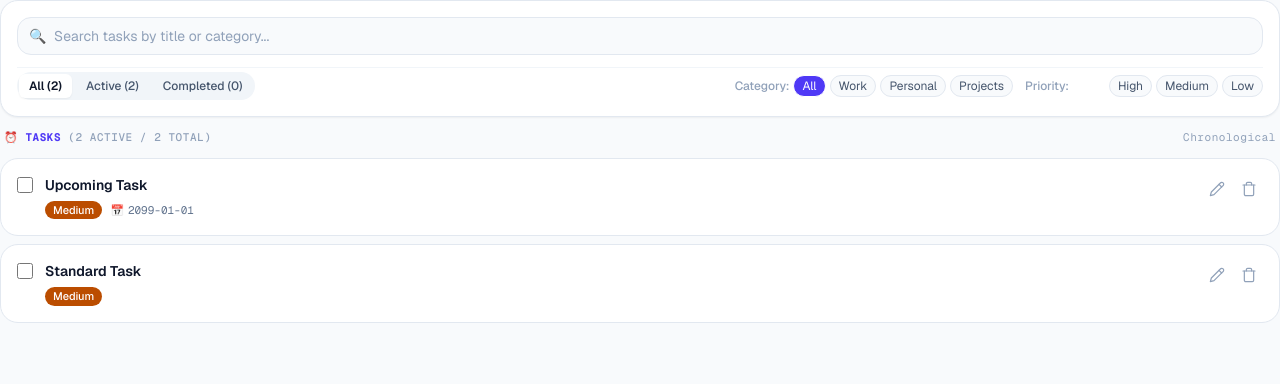
Test: TaskListComponent › should dynamically re-sort tasks when a task due date is edited in place
Expected: the text with class "task-title" reads "Upcoming Task", [45,176,148,194]
Expected: the text with class "task-title" reads "Standard Task", [45,262,142,280]
Click the button with class "edit-btn" in the row of "Standard Task" at (1217, 275), box [1203,261,1231,289]
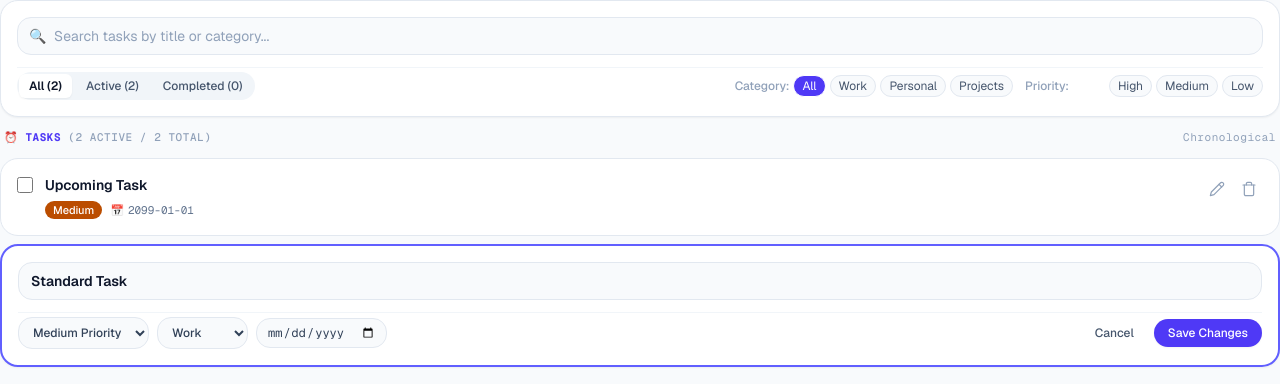
Type "2020-01-01" into the date field with class "edit-due-date-input" at (322, 333), box [256,318,387,348]
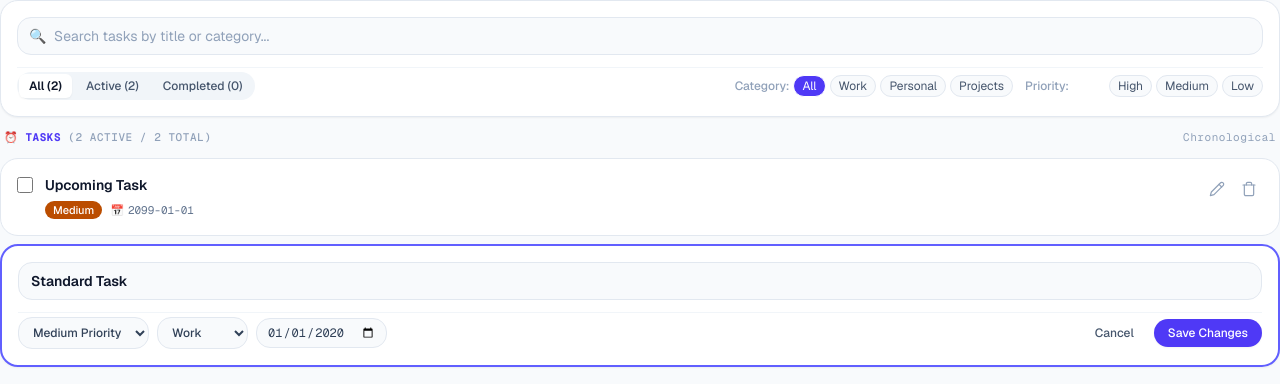
Click the button with class "save-edit-btn" at (1208, 333), box [1154,319,1262,347]
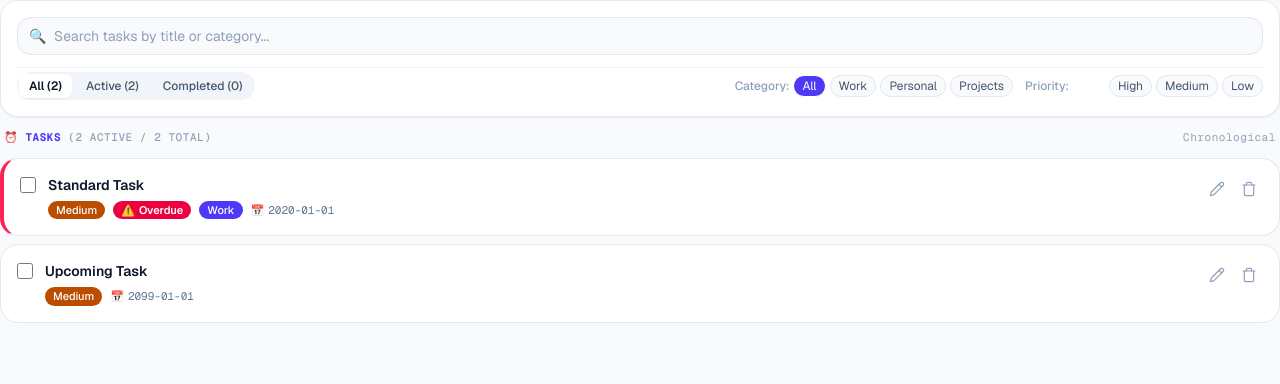
Expected: the text with class "task-title" reads "Upcoming Task", [45,262,148,280]
Expected: the text with class "task-title" reads "Standard Task", [48,176,145,194]
